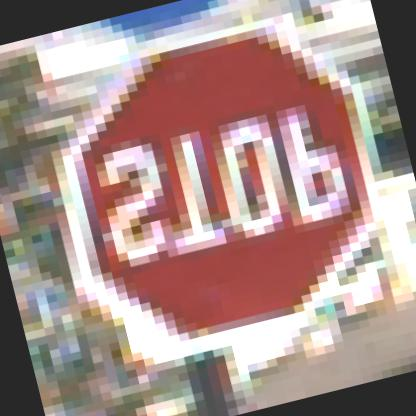stop: (5, 1, 411, 385)
